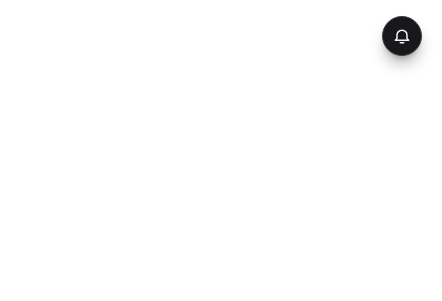
Test case: campana de notificaciones › presenta la lista vacía
The image size is (442, 301).
Click the button named "Notificaciones,": (402, 36) [382, 16, 422, 56]
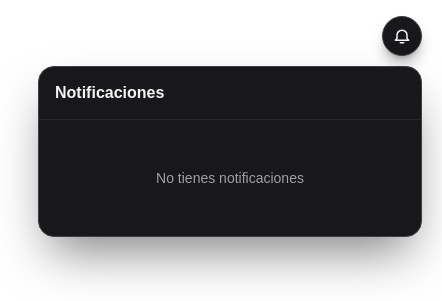
Expected: the text "No tienes notificaciones" is shown, [156, 170, 304, 186]
